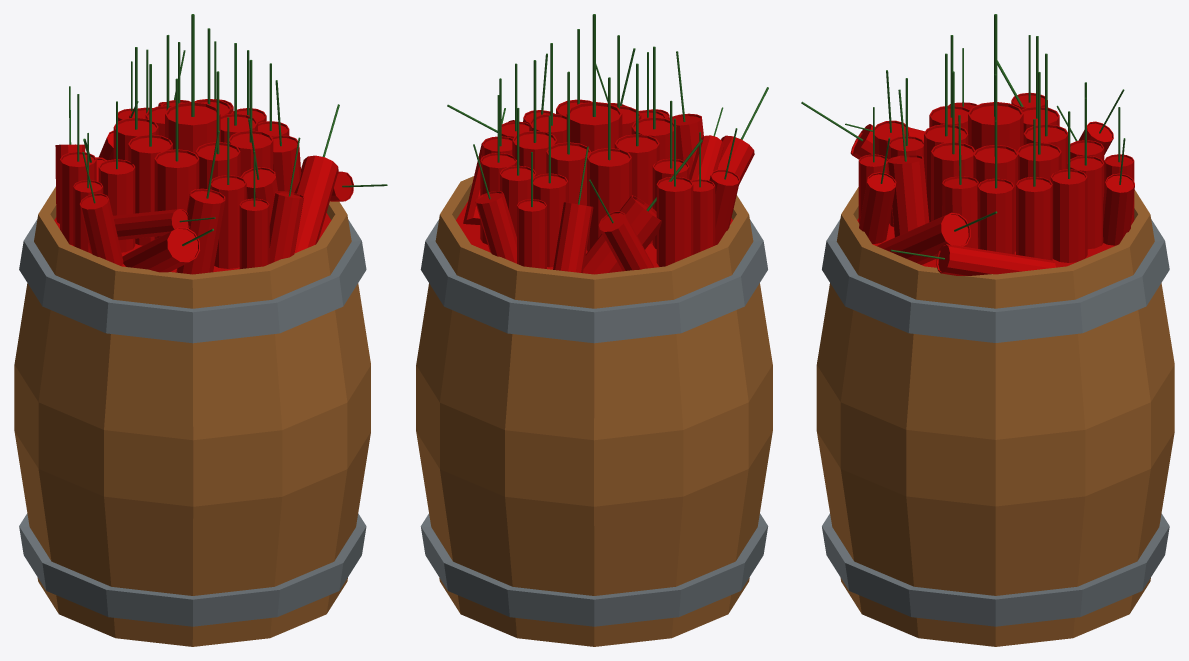
Rendered from explosive barrel.fbx.
3 views of the same model, side by side, from view 1: azimuth 30°, elevation 25°; view 2: azimuth 150°, elevation 25°; view 3: azimuth 270°, elevation 25° (orthographic).
Visible parts, largest first — view 1: Cylinder, Cylinder.022, Cylinder.015, Cylinder.024, Cylinder.001, Cylinder.010, Cylinder.002, Cylinder.025, Cylinder.013, Cylinder.027, Cylinder.026, Cylinder.003 (+14 smaller); view 2: Cylinder, Cylinder.029, Cylinder.017, Cylinder.001, Cylinder.028, Cylinder.031, Cylinder.030, Cylinder.012, Cylinder.002, Cylinder.033, Cylinder.008, Cylinder.011 (+15 smaller); view 3: Cylinder, Cylinder.019, Cylinder.020, Cylinder.006, Cylinder.023, Cylinder.005, Cylinder.022, Cylinder.001, Cylinder.016, Cylinder.030, Cylinder.026, Cylinder.018 (+15 smaller).
Part boxes in pixels (x1,y1,x2,y2): Cylinder: [14, 186, 370, 646]; Cylinder.022: [294, 104, 339, 253]; Cylinder.015: [154, 78, 199, 239]; Cylinder.024: [176, 130, 225, 274]; Cylinder.001: [165, 14, 220, 153]; Cylinder.010: [210, 117, 246, 268]; Cylinder.002: [128, 64, 172, 245]; Cylinder.025: [122, 227, 213, 272]; Cylinder.013: [239, 151, 269, 268]; Cylinder.027: [79, 152, 123, 265]; Cylinder.026: [269, 137, 303, 263]; Cylinder.003: [98, 101, 135, 252]; Cylinder: [416, 176, 772, 646]; Cylinder.029: [656, 118, 693, 266]; Cylinder.017: [587, 77, 631, 251]; Cylinder.001: [566, 14, 622, 151]; Cylinder.028: [583, 139, 702, 274]; Cylinder.031: [553, 146, 593, 273]; Cylinder.030: [473, 144, 516, 263]; Cylinder.012: [517, 152, 546, 268]; Cylinder.002: [614, 63, 659, 244]; Cylinder.033: [589, 179, 654, 271]; Cylinder.008: [546, 71, 590, 249]; Cylinder.011: [533, 115, 568, 267]; Cylinder: [816, 187, 1174, 646]; Cylinder.019: [1050, 111, 1087, 262]; Cylinder.020: [1016, 119, 1052, 260]; Cylinder.006: [977, 120, 1014, 254]; Cylinder.023: [887, 89, 929, 237]; Cylinder.005: [890, 244, 1055, 275]; Cylinder.022: [877, 211, 997, 264]; Cylinder.001: [968, 14, 1023, 151]; Cylinder.016: [931, 71, 975, 221]; Cylinder.030: [1103, 138, 1134, 245]; Cylinder.026: [859, 137, 896, 243]; Cylinder.018: [1067, 97, 1104, 249].
Bounding box in the file's own units: 230 × 405 × 242.
